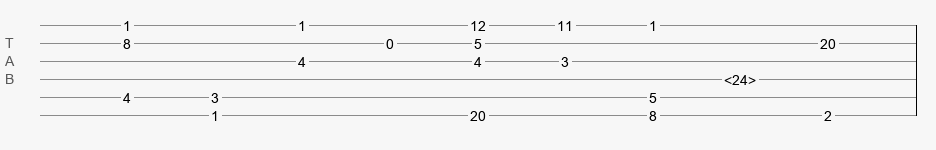0: (386, 36, 394, 46)
1: (123, 18, 131, 28), (211, 108, 219, 118), (298, 18, 306, 28), (649, 18, 657, 28)
11: (557, 18, 573, 28)
12: (470, 18, 486, 28)
2: (824, 108, 832, 118)
20: (470, 108, 486, 118), (820, 36, 836, 46)
3: (211, 90, 219, 100), (561, 54, 569, 64)
4: (123, 90, 131, 100), (298, 54, 306, 64), (474, 54, 482, 64)
5: (474, 36, 482, 46), (649, 90, 657, 100)
8: (123, 36, 131, 46), (649, 108, 657, 118)
harmonic: (724, 72, 756, 82)
